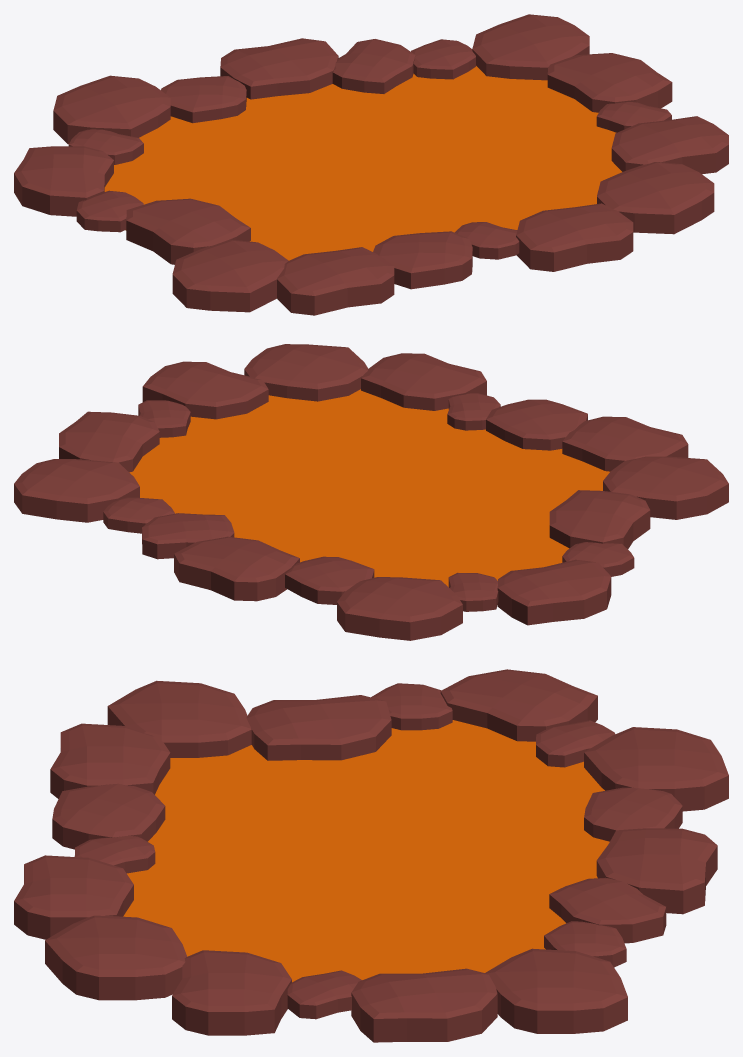
File: LavaPit2.fbx
3 renders of one model, top to bottom at view 1: azimuth 30°, elevation 25°; view 2: azimuth 150°, elevation 25°; view 3: azimuth 270°, elevation 25°, orthographic. The views are drawn at different scales.
Parts seen in each view (by area): view 1: Cube.091; view 2: Cube.091; view 3: Cube.091.
Boxes of the visible parts, x1,y1,x2,y2 form: Cube.091: (14, 14, 728, 315); Cube.091: (14, 344, 728, 640); Cube.091: (14, 669, 728, 1042).
Size of the model in its own units: 2230 by 89.62 by 1927.
